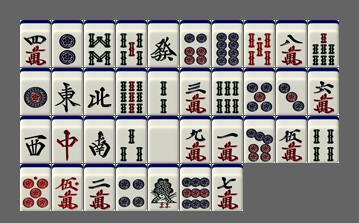0m: (52, 164, 83, 211)
0p: (20, 164, 51, 211)
0s: (244, 20, 275, 67)
1m: (212, 116, 243, 163)
1p: (20, 68, 51, 115)
1s: (148, 164, 179, 211)
1z: (52, 68, 83, 115)
2m: (84, 164, 115, 211)
2p: (52, 20, 83, 67)
2s: (148, 68, 179, 115)
2z: (84, 116, 115, 163)
3m: (180, 68, 211, 115)
3p: (276, 68, 307, 115)
3s: (116, 116, 147, 163)
3z: (20, 116, 51, 163)
4m: (20, 20, 51, 67)
4p: (116, 164, 147, 211)
4s: (308, 116, 339, 163)
4z: (84, 68, 115, 115)
5m: (276, 116, 307, 163)
5p: (244, 68, 275, 115)
5s: (116, 20, 147, 67)
5z: (148, 116, 179, 163)
6m: (308, 68, 339, 115)
6p: (180, 20, 211, 67)
6s: (212, 68, 243, 115)
6z: (148, 20, 179, 67)
7m: (212, 164, 243, 211)
7p: (244, 116, 275, 163)
7s: (308, 20, 339, 67)
7z: (52, 116, 83, 163)
8m: (276, 20, 307, 67)
8p: (212, 20, 243, 67)
8s: (84, 20, 115, 67)
9m: (180, 116, 211, 163)
9p: (180, 164, 211, 211)
9s: (116, 68, 147, 115)
